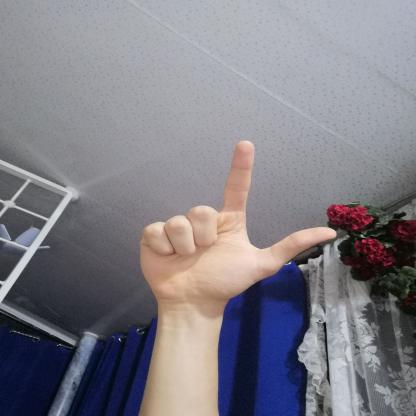LAAM: (121, 130, 354, 319)
